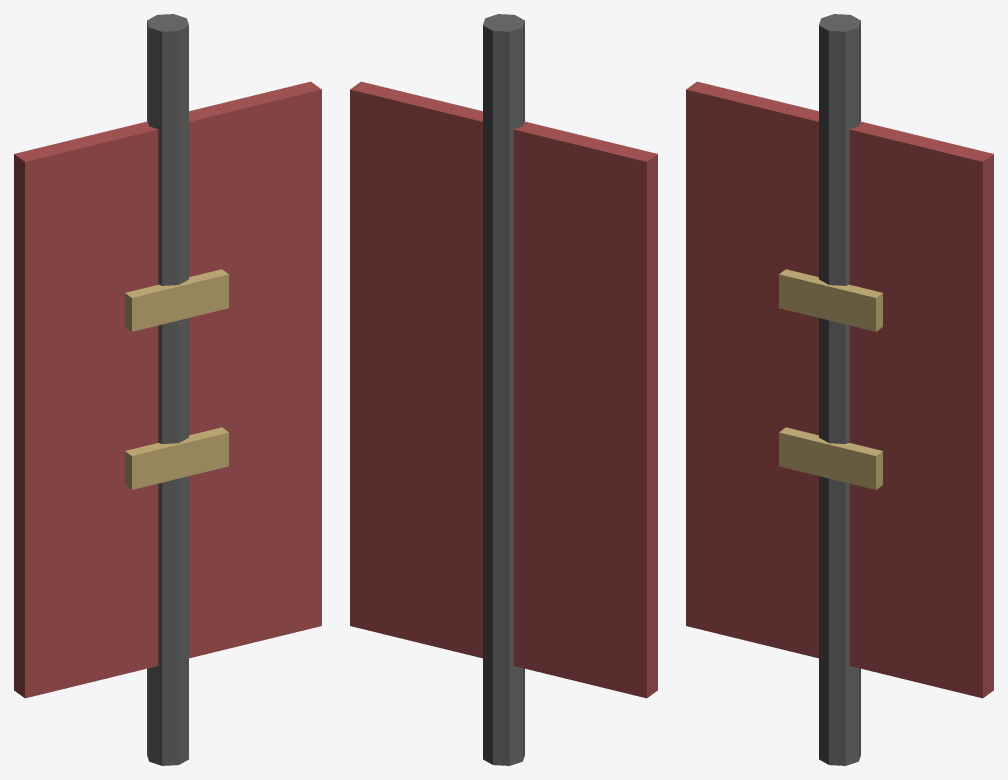
File: red_banner_gold.glb
3 views of the same model, side by side, from view 1: azimuth 30°, elevation 25°; view 2: azimuth 150°, elevation 25°; view 3: azimuth 330°, elevation 25° (orthographic).
Visible parts, largest first — view 1: banner_cloth, banner_pole, banner_emblem_0, banner_emblem_1; view 2: banner_cloth, banner_pole; view 3: banner_cloth, banner_pole, banner_emblem_0, banner_emblem_1.
Boxes of the visible parts, bbox=[...] form: banner_cloth: bbox=[14, 81, 321, 698]; banner_pole: bbox=[147, 14, 188, 765]; banner_emblem_0: bbox=[125, 269, 228, 331]; banner_emblem_1: bbox=[125, 427, 228, 489]; banner_cloth: bbox=[350, 81, 657, 698]; banner_pole: bbox=[483, 14, 524, 765]; banner_cloth: bbox=[686, 81, 993, 698]; banner_pole: bbox=[819, 14, 860, 765]; banner_emblem_0: bbox=[779, 269, 882, 331]; banner_emblem_1: bbox=[779, 427, 882, 489].
Size of the model in its own units: 0.55 by 1.3 by 0.075.
